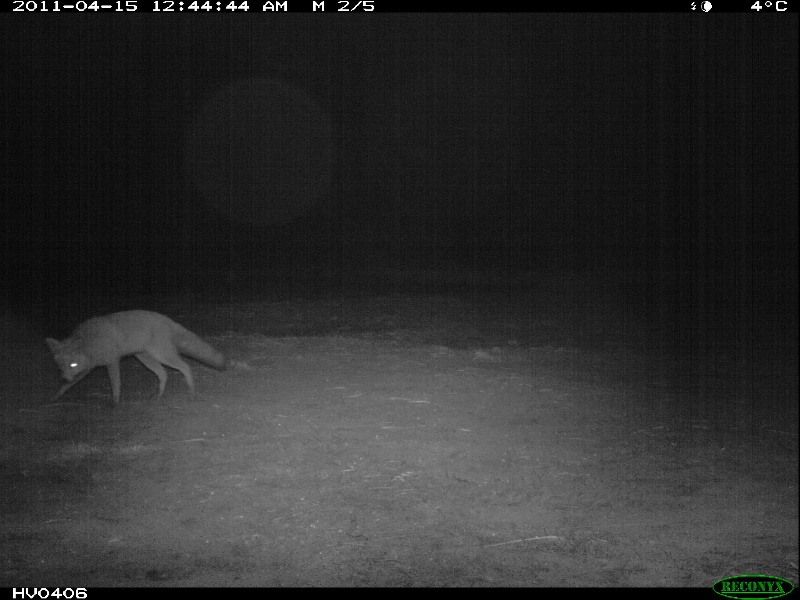fox: (43, 308, 228, 405)
